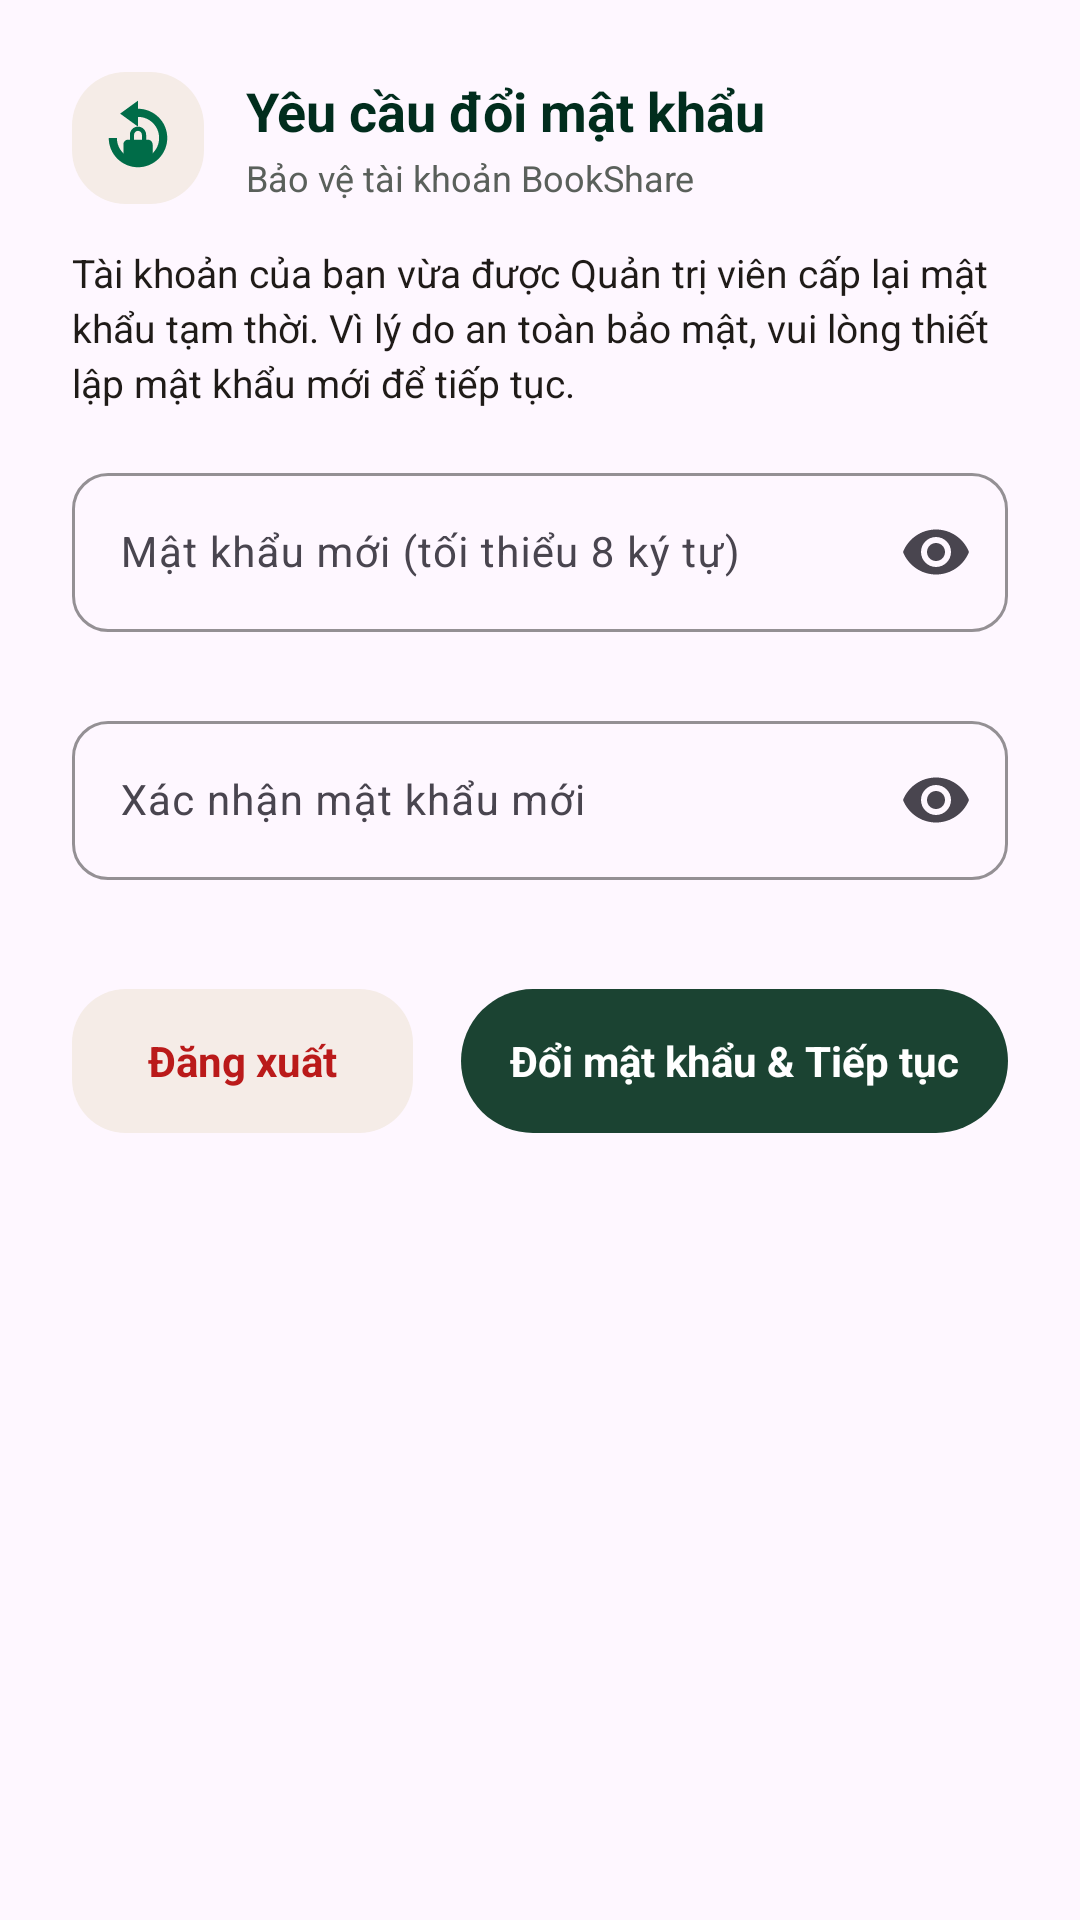

Icon bounding boxes for this 1080x1920 phone screenshot, format rect(x1, y1, x2, y2):
Security Lock: rect(72, 72, 204, 204)
